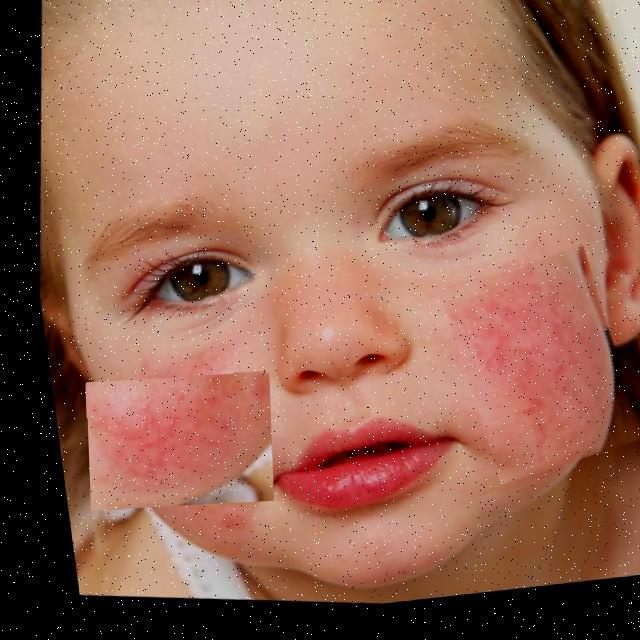redness: (446, 263, 617, 465), (85, 375, 265, 510)
